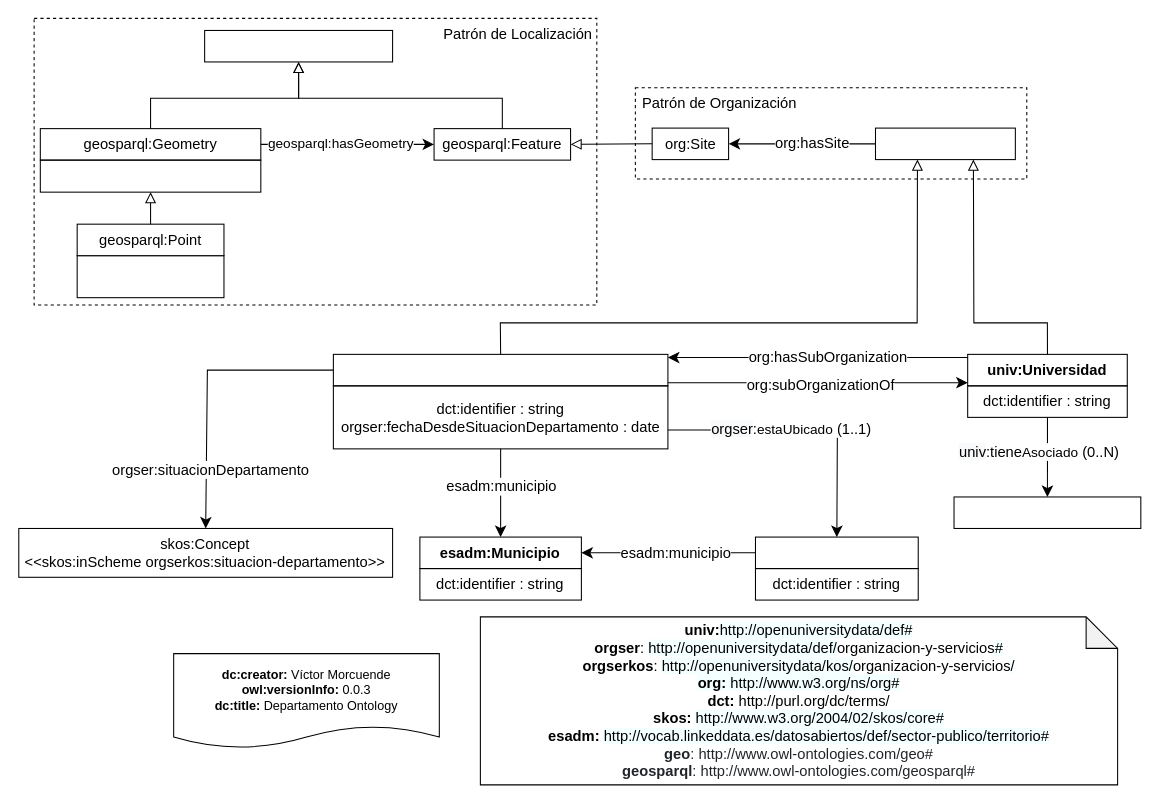
This 1159x803 diagram has some shape labels left out. Each missing label, with the centre of its shape:
geo:lat : double geo:long : double: [150,276]
geosparql:asWKT : WKTLiteral: [150,175]
geosparql:SpatialObject: [298,45]
org:Organization: [944,143]
orgser:Campus: [836,552]
orgser:Departamento: [500,369]
univ :CursoAcademico: [1047,512]
